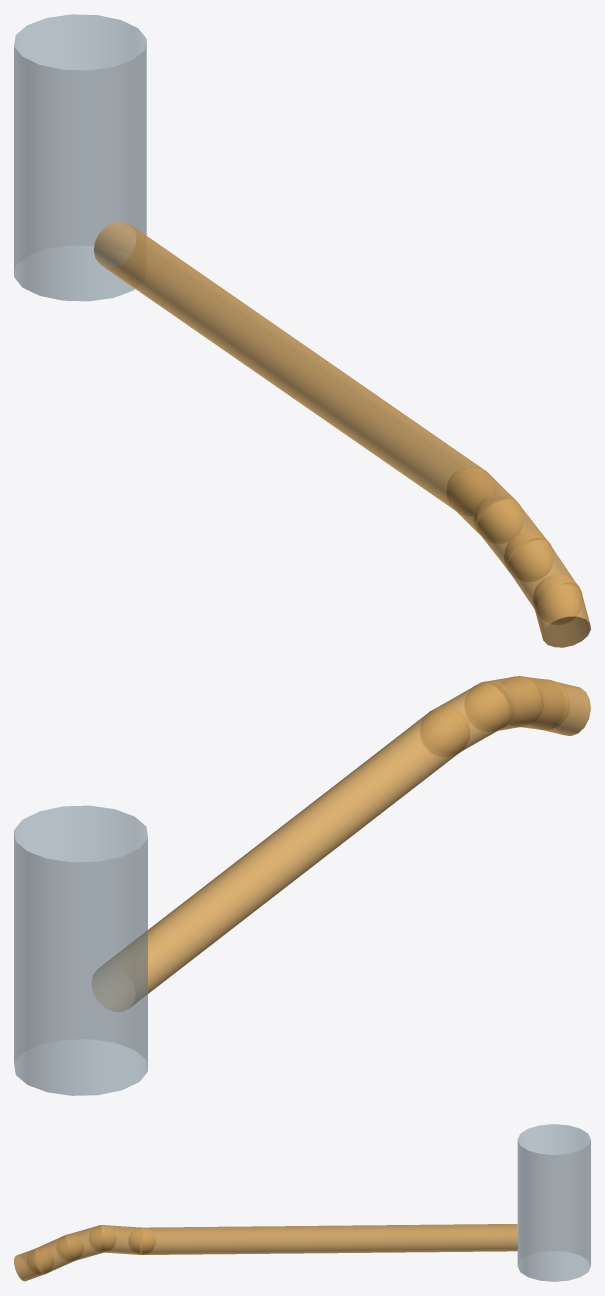
The model's file is pipe_model (11).glb.
3 renders of one model, top to bottom at view 1: azimuth 30°, elevation 25°; view 2: azimuth 150°, elevation 25°; view 3: azimuth 270°, elevation 25°, orthographic. The views are drawn at different scales.
Visible parts, largest first — view 1: segment_0_A_B, segment_1_B_C, segment_5_F_G, segment_4_E_F, segment_3_D_E, joint_E, joint_D, joint_F, segment_2_C_D, joint_C; view 2: segment_0_A_B, segment_1_B_C, segment_2_C_D, joint_D, joint_C, segment_3_D_E, joint_E, segment_5_F_G, segment_4_E_F, joint_F; view 3: segment_0_A_B, segment_1_B_C, segment_2_C_D, segment_3_D_E, segment_4_E_F, joint_E, joint_C, joint_F, joint_D, segment_5_F_G.
Boxes of the visible parts, left/top/right/bottom form: segment_0_A_B: left=14, top=14, right=146, bottom=301; segment_1_B_C: left=93, top=221, right=483, bottom=509; segment_5_F_G: left=534, top=585, right=590, bottom=647; segment_4_E_F: left=507, top=540, right=578, bottom=609; segment_3_D_E: left=477, top=499, right=546, bottom=568; joint_E: left=504, top=532, right=553, bottom=581; joint_D: left=474, top=493, right=523, bottom=543; joint_F: left=533, top=575, right=582, bottom=624; segment_2_C_D: left=449, top=469, right=513, bottom=534; joint_C: left=446, top=466, right=495, bottom=515; segment_0_A_B: left=14, top=805, right=147, bottom=1095; segment_1_B_C: left=92, top=709, right=466, bottom=1011; segment_2_C_D: left=437, top=683, right=509, bottom=751; joint_D: left=464, top=681, right=514, bottom=731; joint_C: left=420, top=706, right=469, bottom=756; segment_3_D_E: left=488, top=677, right=540, bottom=730; joint_E: left=502, top=676, right=544, bottom=726; segment_5_F_G: left=544, top=681, right=590, bottom=735; segment_4_E_F: left=520, top=677, right=566, bottom=729; joint_F: left=530, top=679, right=569, bottom=730; segment_0_A_B: left=517, top=1124, right=590, bottom=1281; segment_1_B_C: left=142, top=1224, right=517, bottom=1254; segment_2_C_D: left=101, top=1225, right=141, bottom=1254; segment_3_D_E: left=66, top=1226, right=104, bottom=1260; segment_4_E_F: left=35, top=1236, right=73, bottom=1273; joint_E: left=56, top=1234, right=83, bottom=1261; joint_C: left=128, top=1227, right=155, bottom=1254; joint_F: left=27, top=1248, right=53, bottom=1274; joint_D: left=89, top=1225, right=116, bottom=1252; segment_5_F_G: left=14, top=1249, right=43, bottom=1281.
Bounding box in the file's own units: 0.4 × 0.8395 × 3.14.
